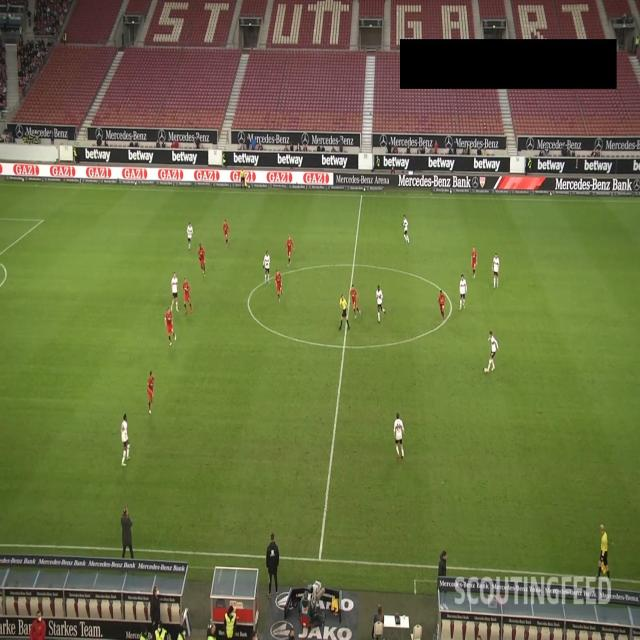ball: (483, 366, 488, 375)
